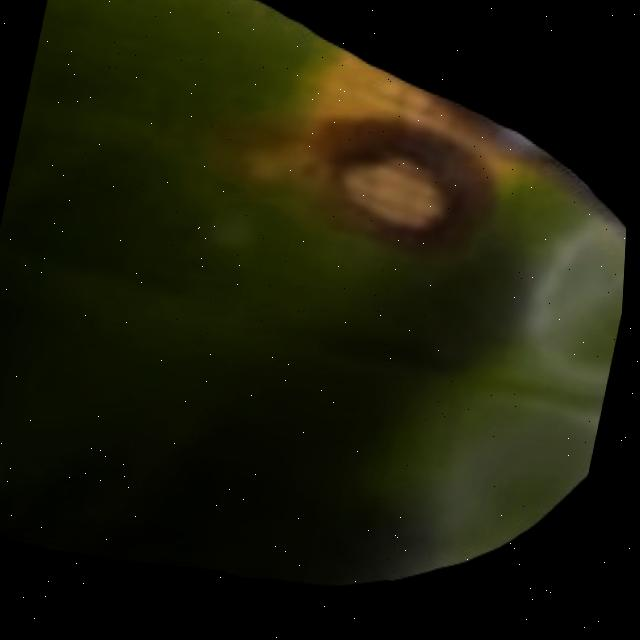mite: (294, 111, 514, 268), (294, 163, 331, 193)
